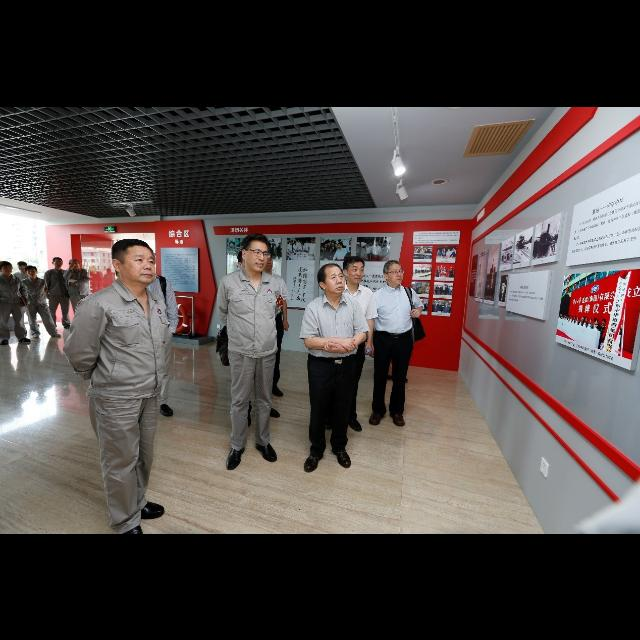head: (111, 238, 157, 284), (242, 232, 270, 274), (318, 262, 347, 294), (343, 256, 365, 284), (384, 260, 404, 284), (138, 248, 158, 268), (261, 252, 275, 270), (0, 260, 14, 274), (68, 258, 80, 270), (52, 256, 64, 268), (26, 265, 38, 277), (17, 261, 29, 273)
person: (213, 232, 284, 472), (297, 261, 371, 473), (111, 244, 180, 418), (318, 254, 380, 434), (364, 257, 428, 427), (240, 249, 292, 397), (18, 264, 62, 338), (0, 259, 32, 345), (62, 257, 94, 331), (42, 255, 74, 329), (10, 260, 40, 334)
